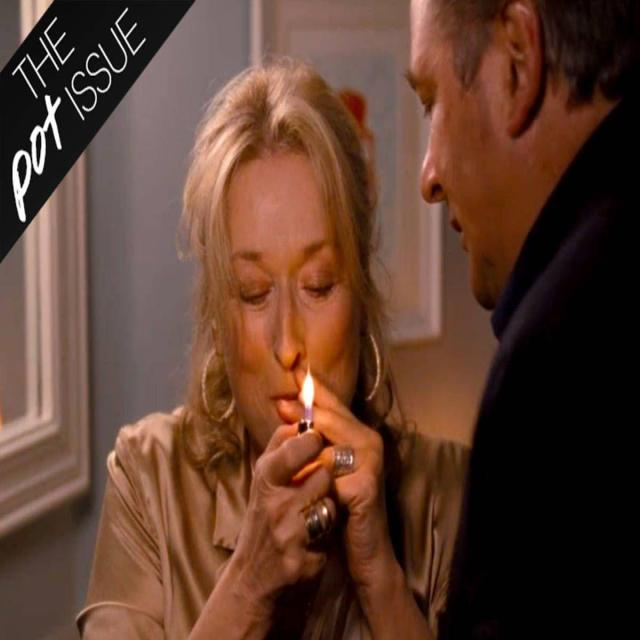cigarette: (284, 363, 336, 445)
